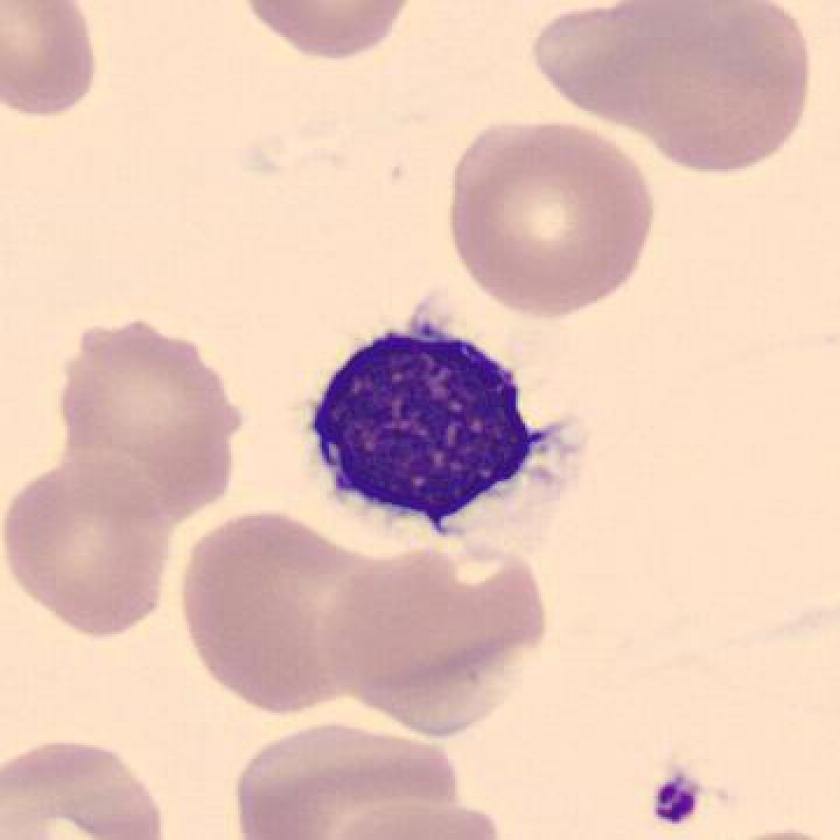lymphocyte: (288, 300, 570, 552)
